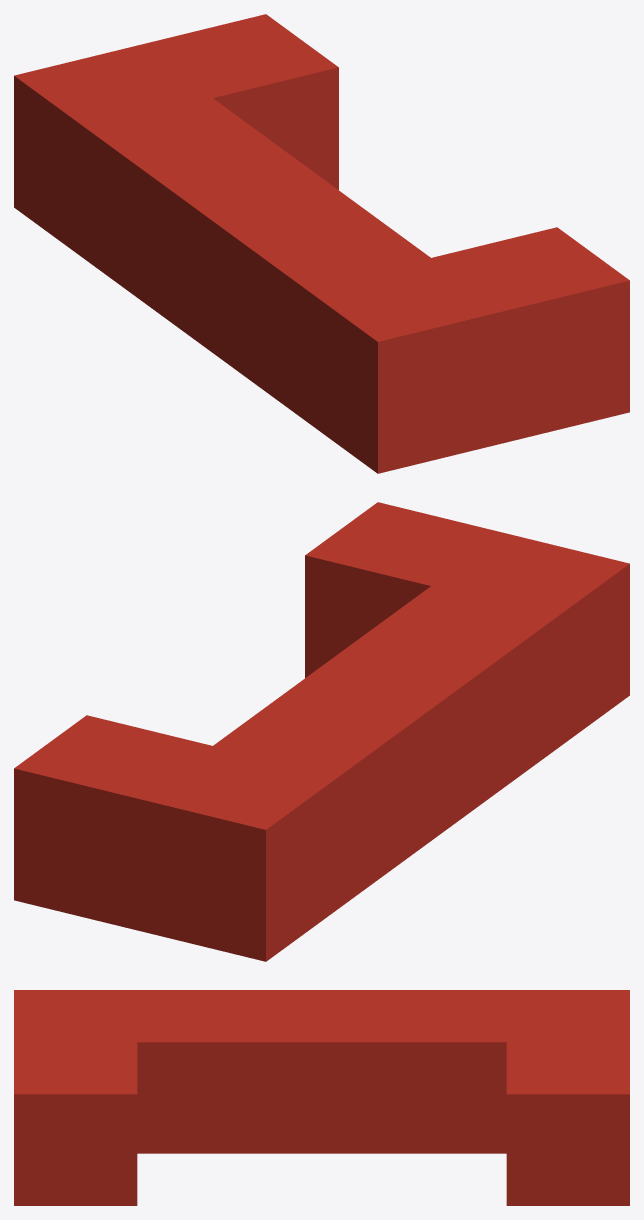
Rendered from MaskedBoneRight.fbx.
The picture shows the model from 3 angles, top to bottom: view 1: azimuth 30°, elevation 25°; view 2: azimuth 150°, elevation 25°; view 3: azimuth 270°, elevation 25°; orthographic projection. The views are drawn at different scales.
Parts seen in each view (by area): view 1: Body1; view 2: Body1; view 3: Body1.
Part boxes in pixels (<box>): Body1: <box>14,14,629,473</box>; Body1: <box>14,502,629,961</box>; Body1: <box>14,990,629,1205</box>.
Bounding box in the file's own units: 40 × 20 × 100.
